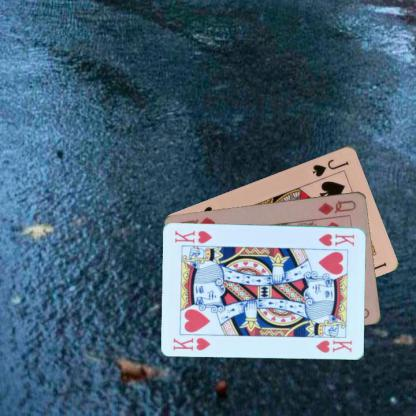Js: (310, 156, 350, 178)
Kh: (170, 334, 212, 352), (316, 231, 356, 247)
Qd: (315, 197, 358, 216)
